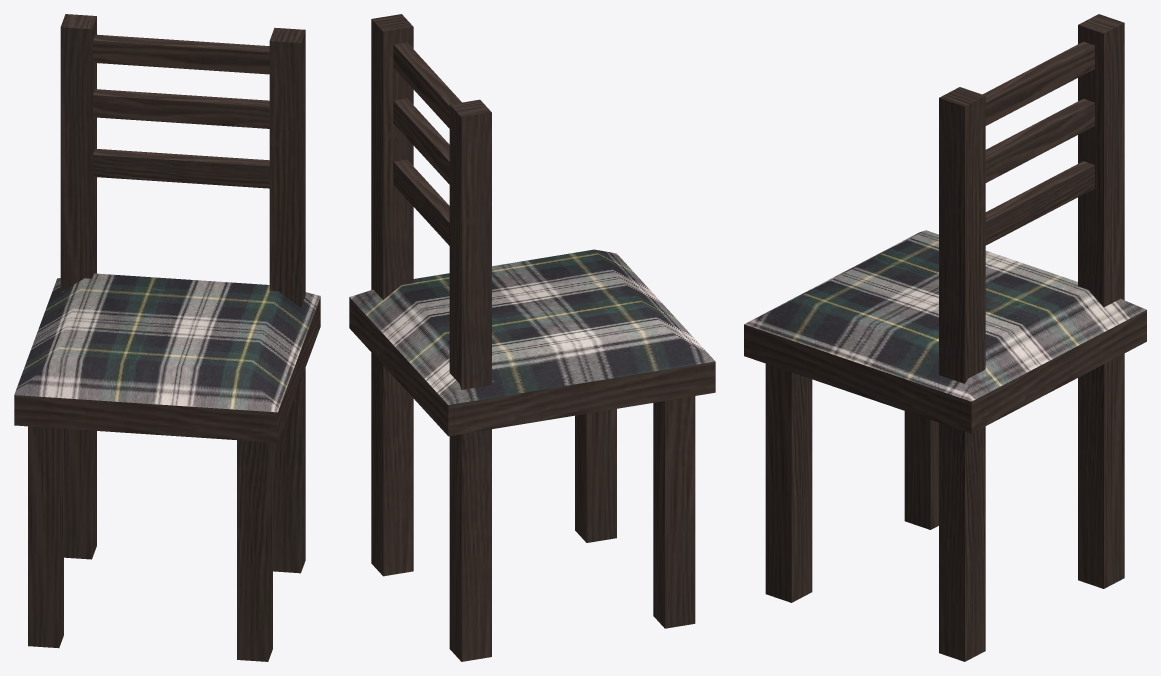
The picture shows the model from 3 angles, left to right: view 1: azimuth 30°, elevation 25°; view 2: azimuth 150°, elevation 25°; view 3: azimuth 270°, elevation 25°; orthographic projection. The views are drawn at different scales.
Parts seen in each view (by area): view 1: Cube189_Wood_12_0, Cube189_Fabric_01_0; view 2: Cube189_Wood_12_0, Cube189_Fabric_01_0; view 3: Cube189_Wood_12_0, Cube189_Fabric_01_0.
Boxes of the visible parts, <box> form: Cube189_Wood_12_0: <box>14,14,320,661</box>; Cube189_Fabric_01_0: <box>14,273,320,412</box>; Cube189_Wood_12_0: <box>349,14,715,661</box>; Cube189_Fabric_01_0: <box>349,249,715,404</box>; Cube189_Wood_12_0: <box>744,14,1146,661</box>; Cube189_Fabric_01_0: <box>744,230,1146,401</box>.
Size of the model in its own units: 0.7729 by 1.18 by 0.7766.
2 materials, 2 textured.
